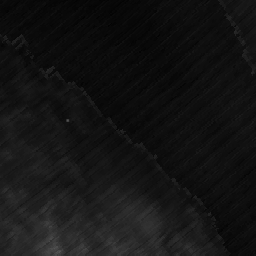Target: (64, 117, 70, 123)
